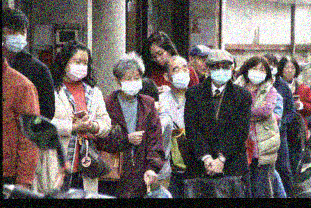with_mask: (3, 24, 28, 54), (66, 55, 89, 83), (119, 71, 143, 96), (171, 61, 191, 89), (209, 63, 233, 84), (247, 64, 268, 85), (268, 61, 279, 77)
without_mask: (148, 47, 170, 67), (280, 61, 298, 80), (195, 53, 209, 76)
